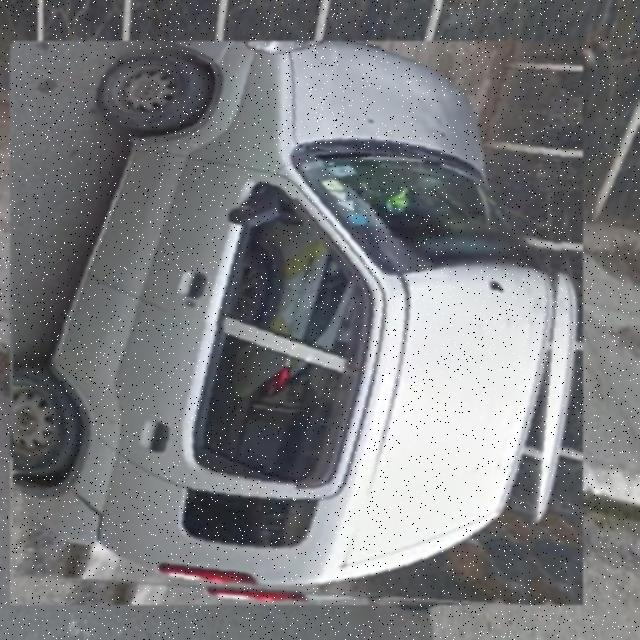car: (14, 42, 581, 609)
